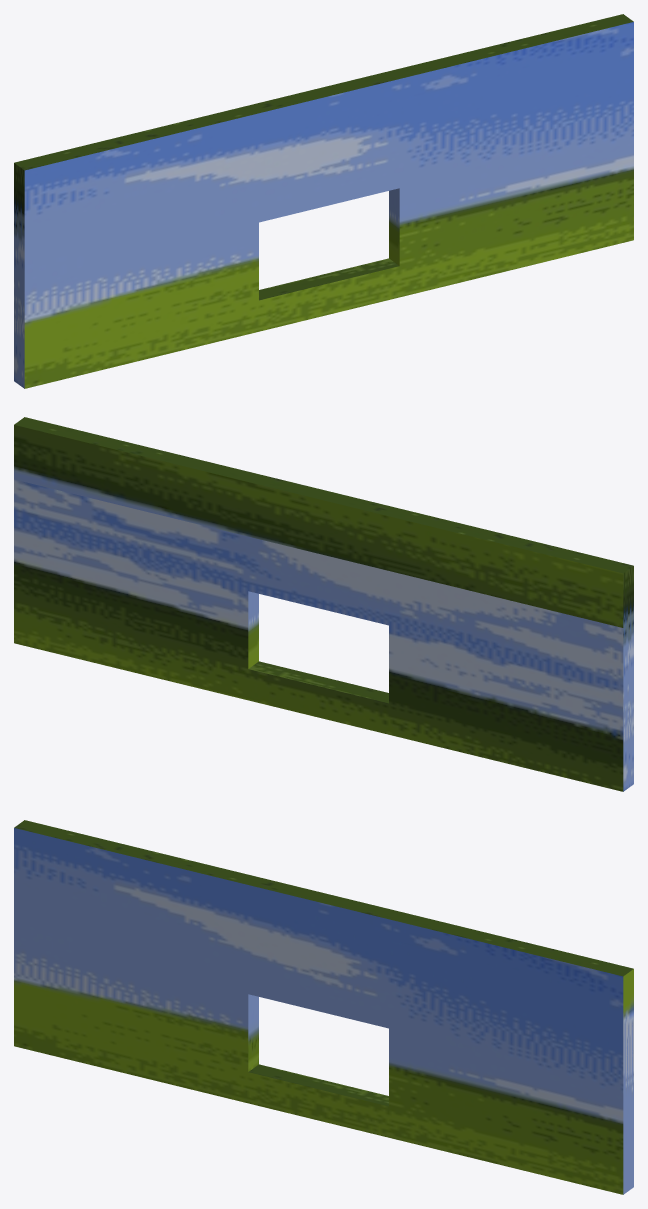
The model's file is firstLevelFrontWall.fbx.
3 views of the same model, one above another, from view 1: azimuth 30°, elevation 25°; view 2: azimuth 150°, elevation 25°; view 3: azimuth 330°, elevation 25° (orthographic).
Parts seen in each view (by area): view 1: Wall_Front; view 2: Wall_Front; view 3: Wall_Front.
Part boxes in pixels (box(x1,y1,x2,y2)): Wall_Front: box(14, 14, 633, 388); Wall_Front: box(14, 417, 633, 791); Wall_Front: box(14, 820, 633, 1194).
Bounding box in the file's own units: 6894 × 2362 × 209.
